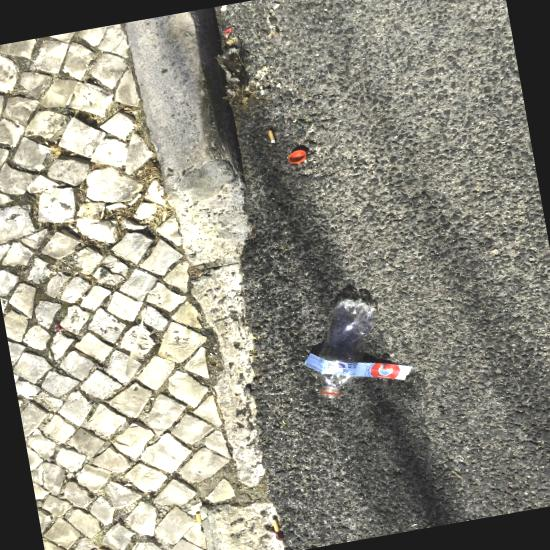Cigarette: (271, 519, 280, 532), (268, 130, 276, 143), (196, 512, 202, 525), (100, 205, 105, 219)
Clear plastic bottle: (317, 298, 376, 398)
Plastic bottle cap: (288, 149, 306, 163)
Wrapping paper: (304, 352, 412, 380)
